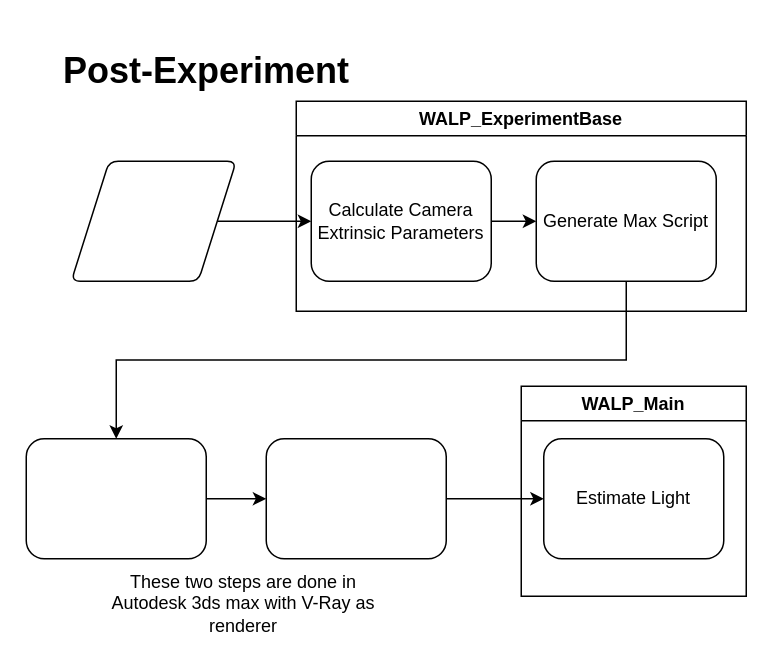
Image size: 773x662. Some labels were removed from this diagram. Here are the shapes that lost their labels. From the top down, the centre of each, then its label:
At point 153,220: "Offload Experiment Images".
At point 115,498: "Run Max Script to set up scene".
At point 355,498: "Render all needed maps".
